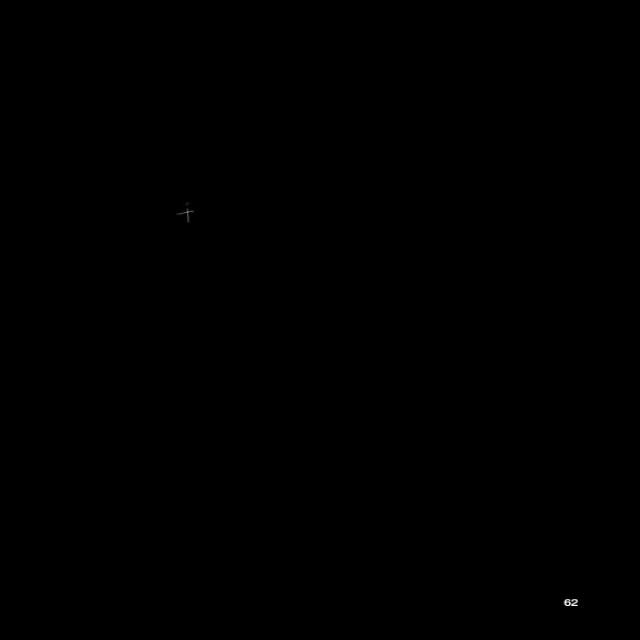1000 -a thousand-: (172, 202, 201, 228)
